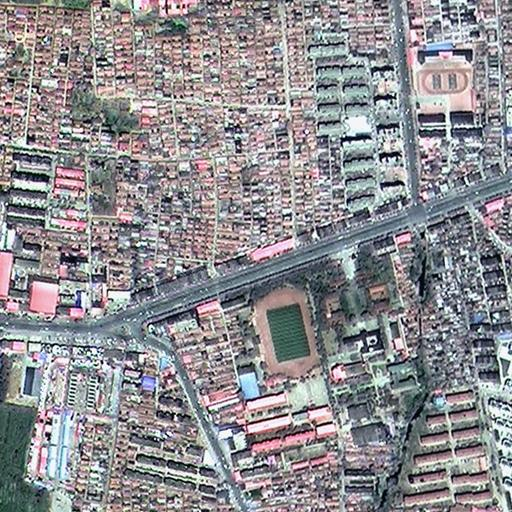school: (233, 282, 319, 401), (410, 45, 483, 138)
